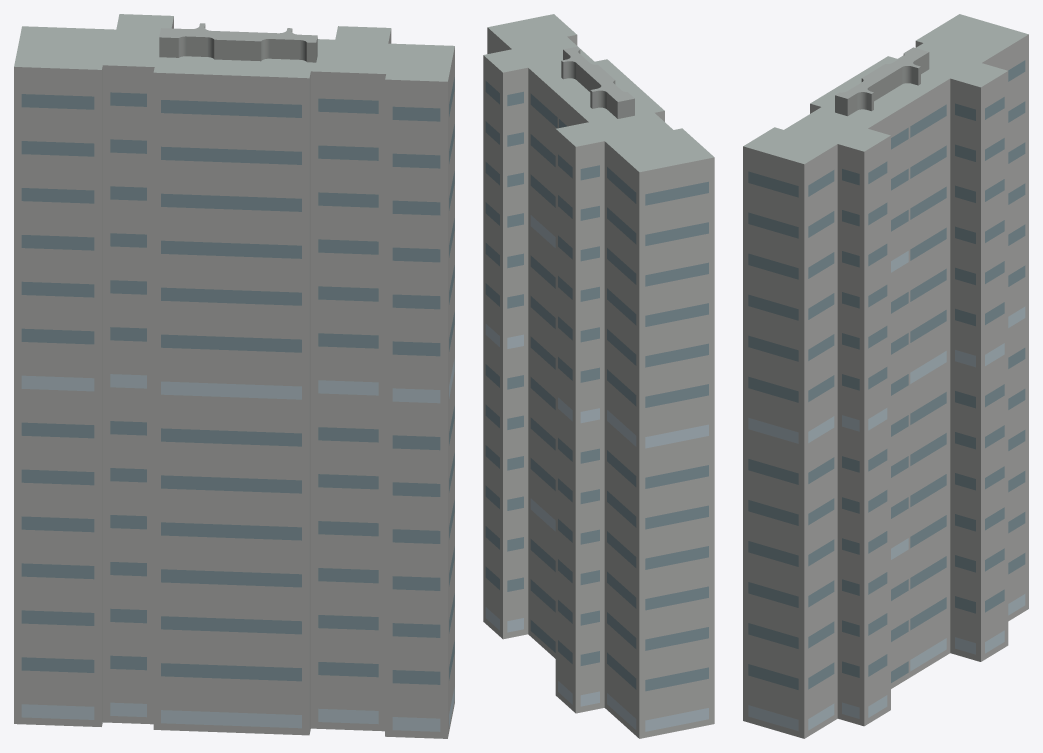
Rendered from fallback-lake-palace-109.glb.
3 views of the same model, side by side, from view 1: azimuth 30°, elevation 25°; view 2: azimuth 150°, elevation 25°; view 3: azimuth 270°, elevation 25° (orthographic). The views are drawn at different scales.
Parts seen in each view (by area): view 1: fallback-lake-palace-109; view 2: fallback-lake-palace-109; view 3: fallback-lake-palace-109.
Boxes of the visible parts, <box> form: fallback-lake-palace-109: <box>14,14,454,738</box>; fallback-lake-palace-109: <box>483,14,714,738</box>; fallback-lake-palace-109: <box>743,14,1028,738</box>.
Size of the model in its own units: 44.65 by 82 by 35.87.
